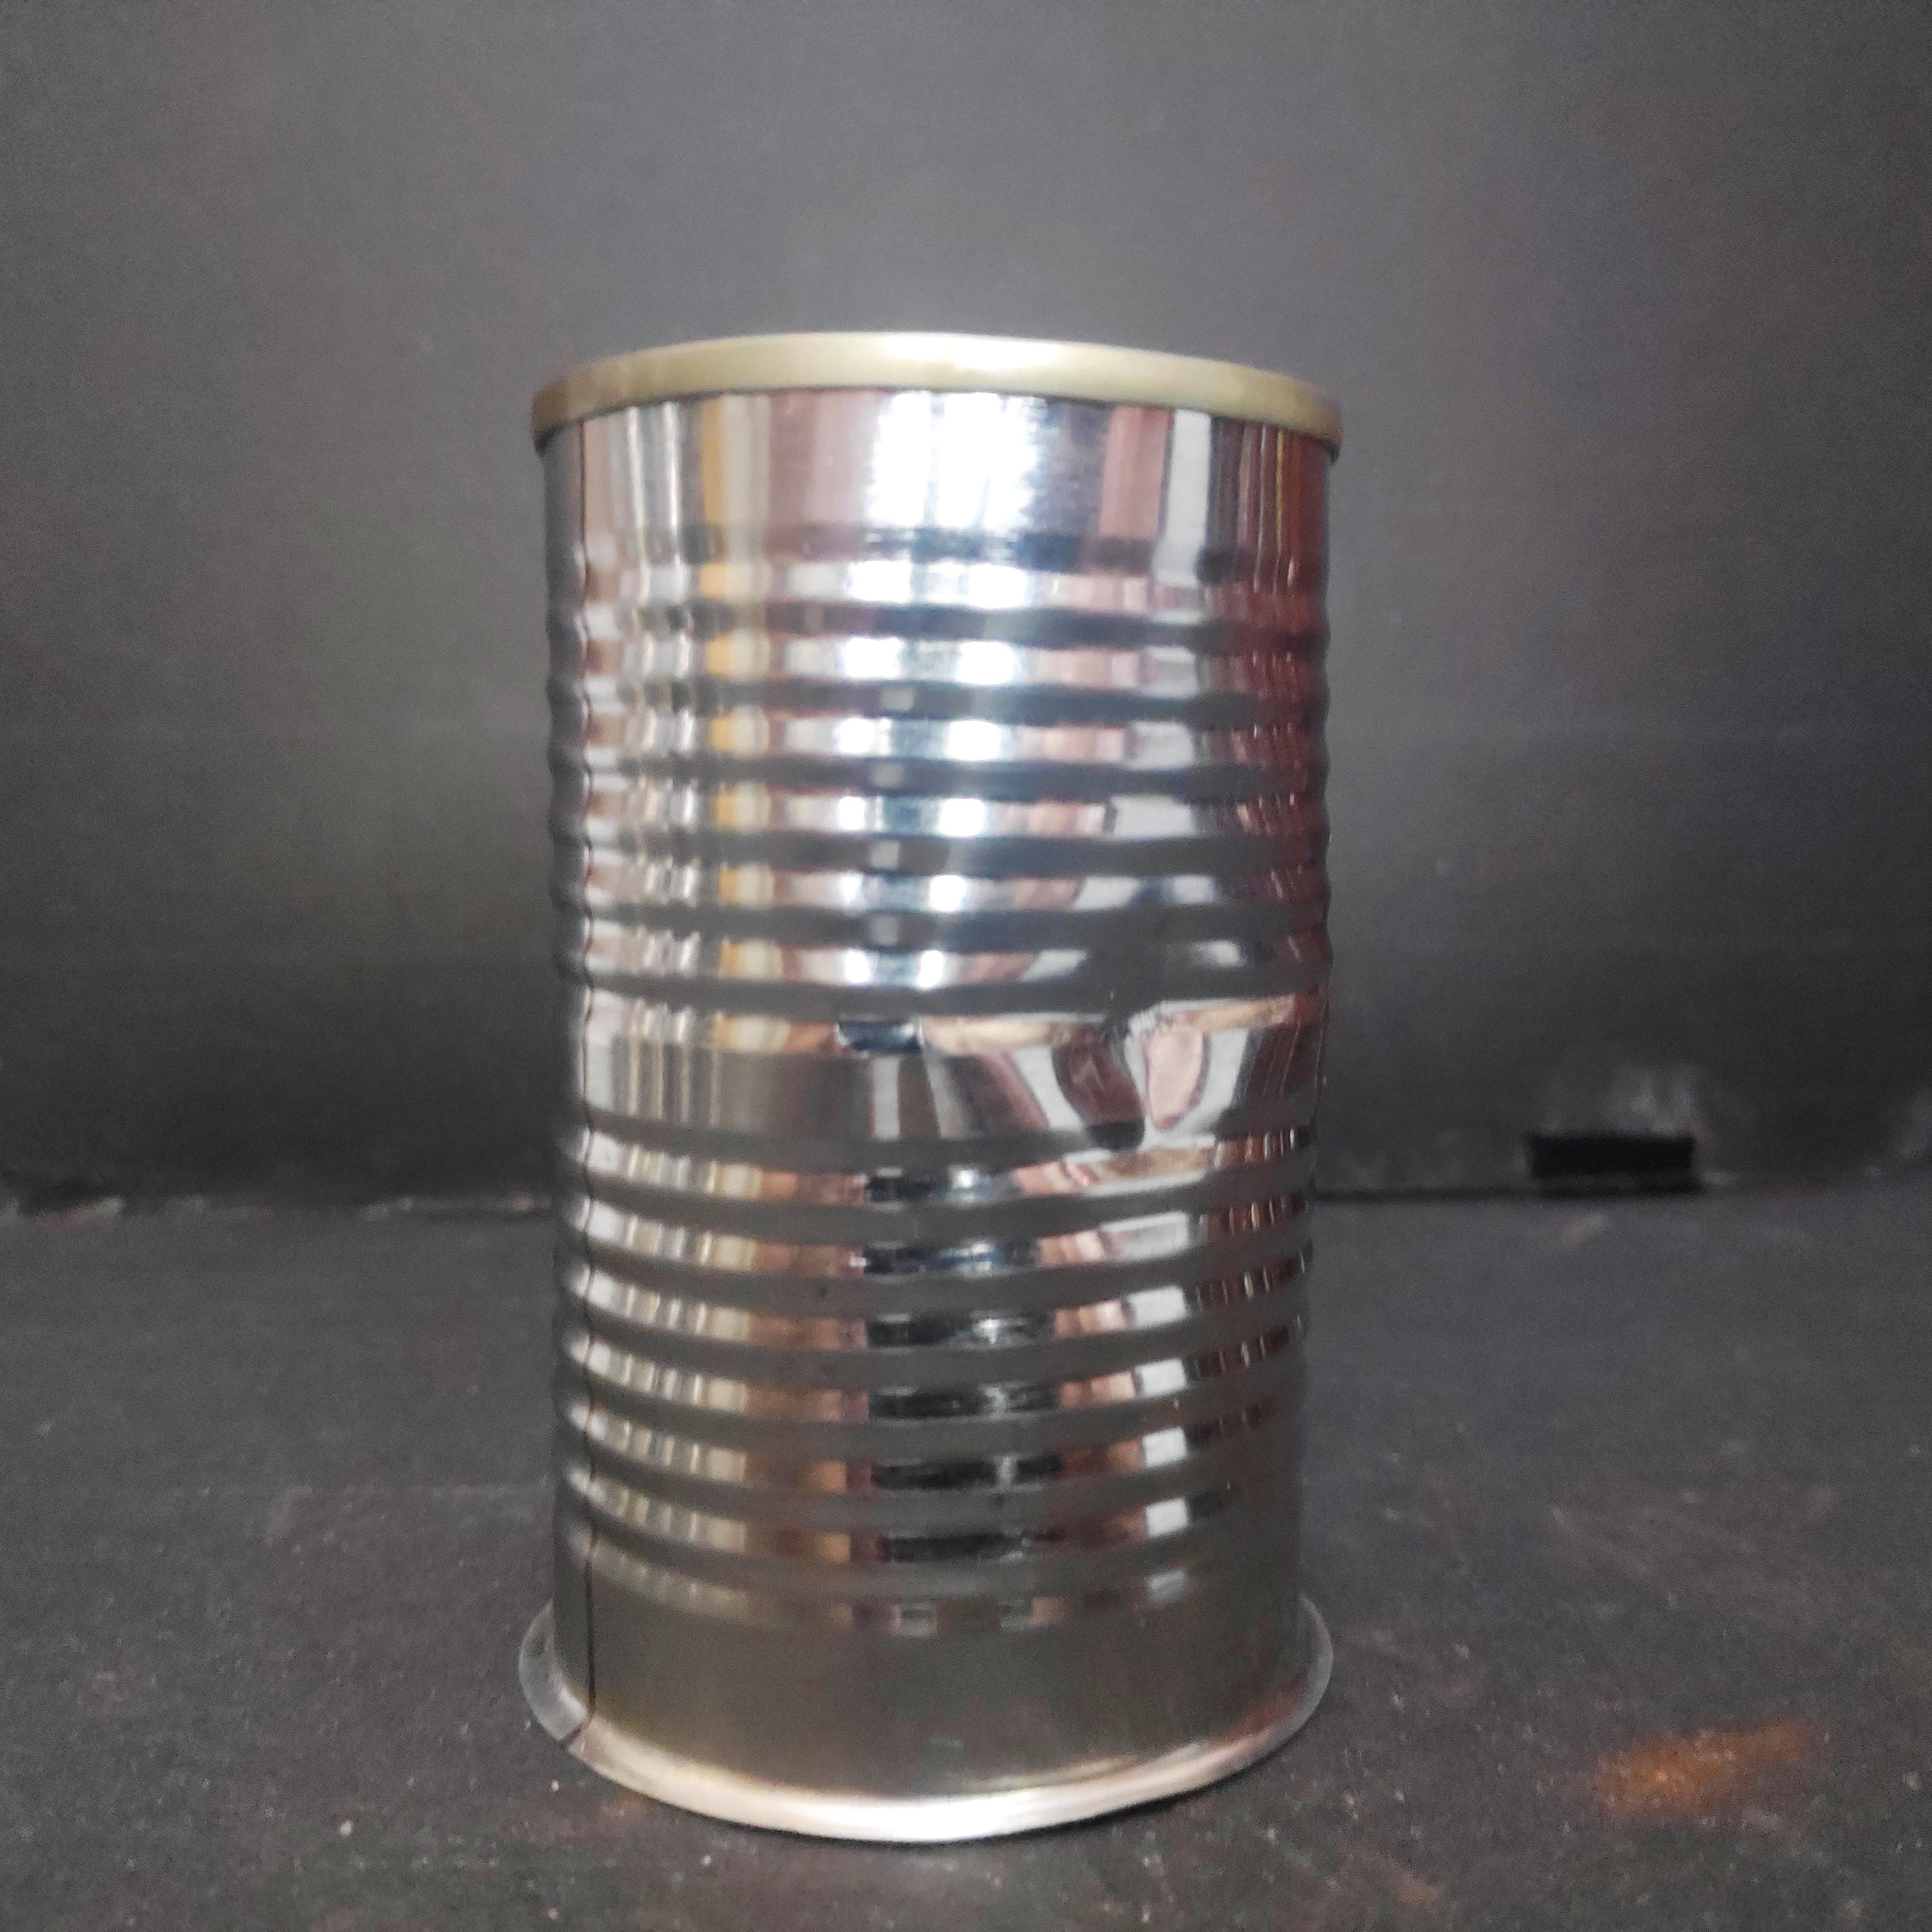Minor Defect: (522, 324, 1353, 1851)
